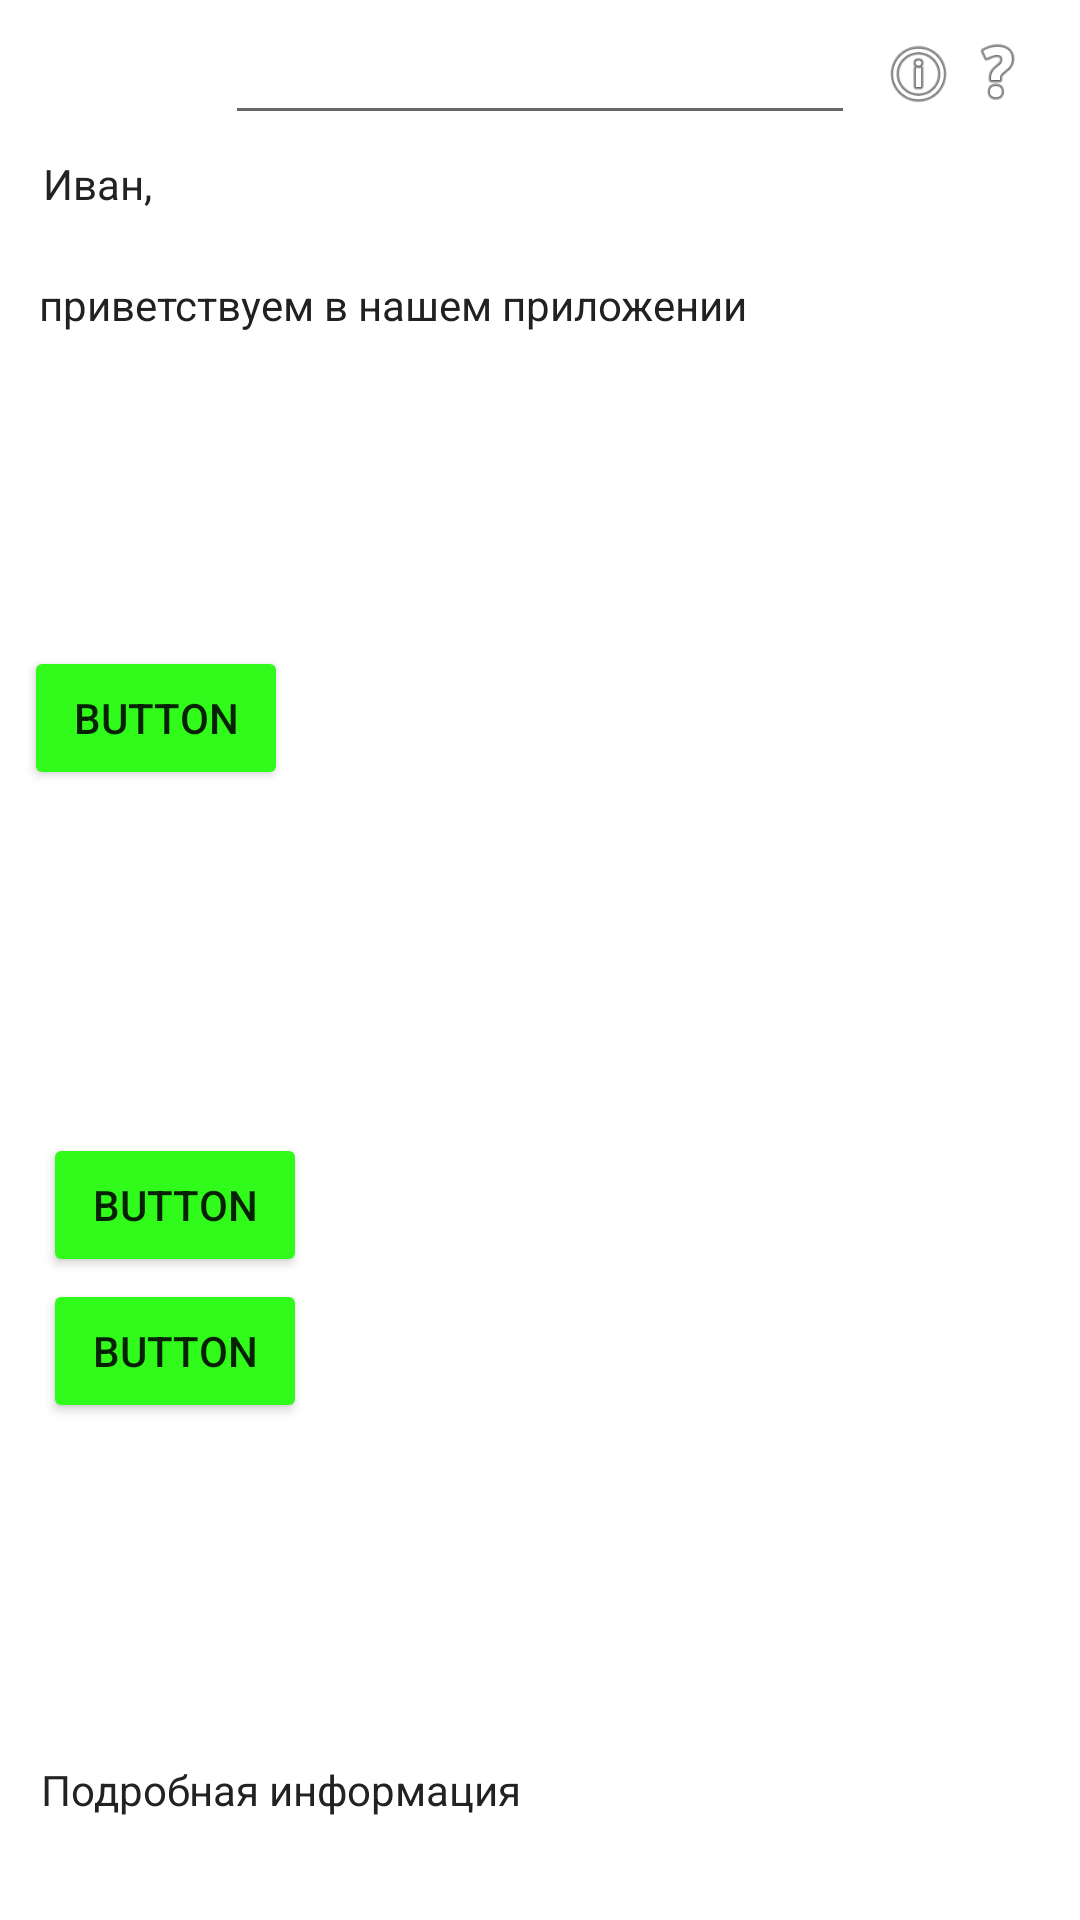

Locate icon controls on the screen. Image size 1080*1920, boxes as (x1, y1, x2, y2).
help: (980, 44, 1015, 100)
info details: (890, 46, 947, 102)
